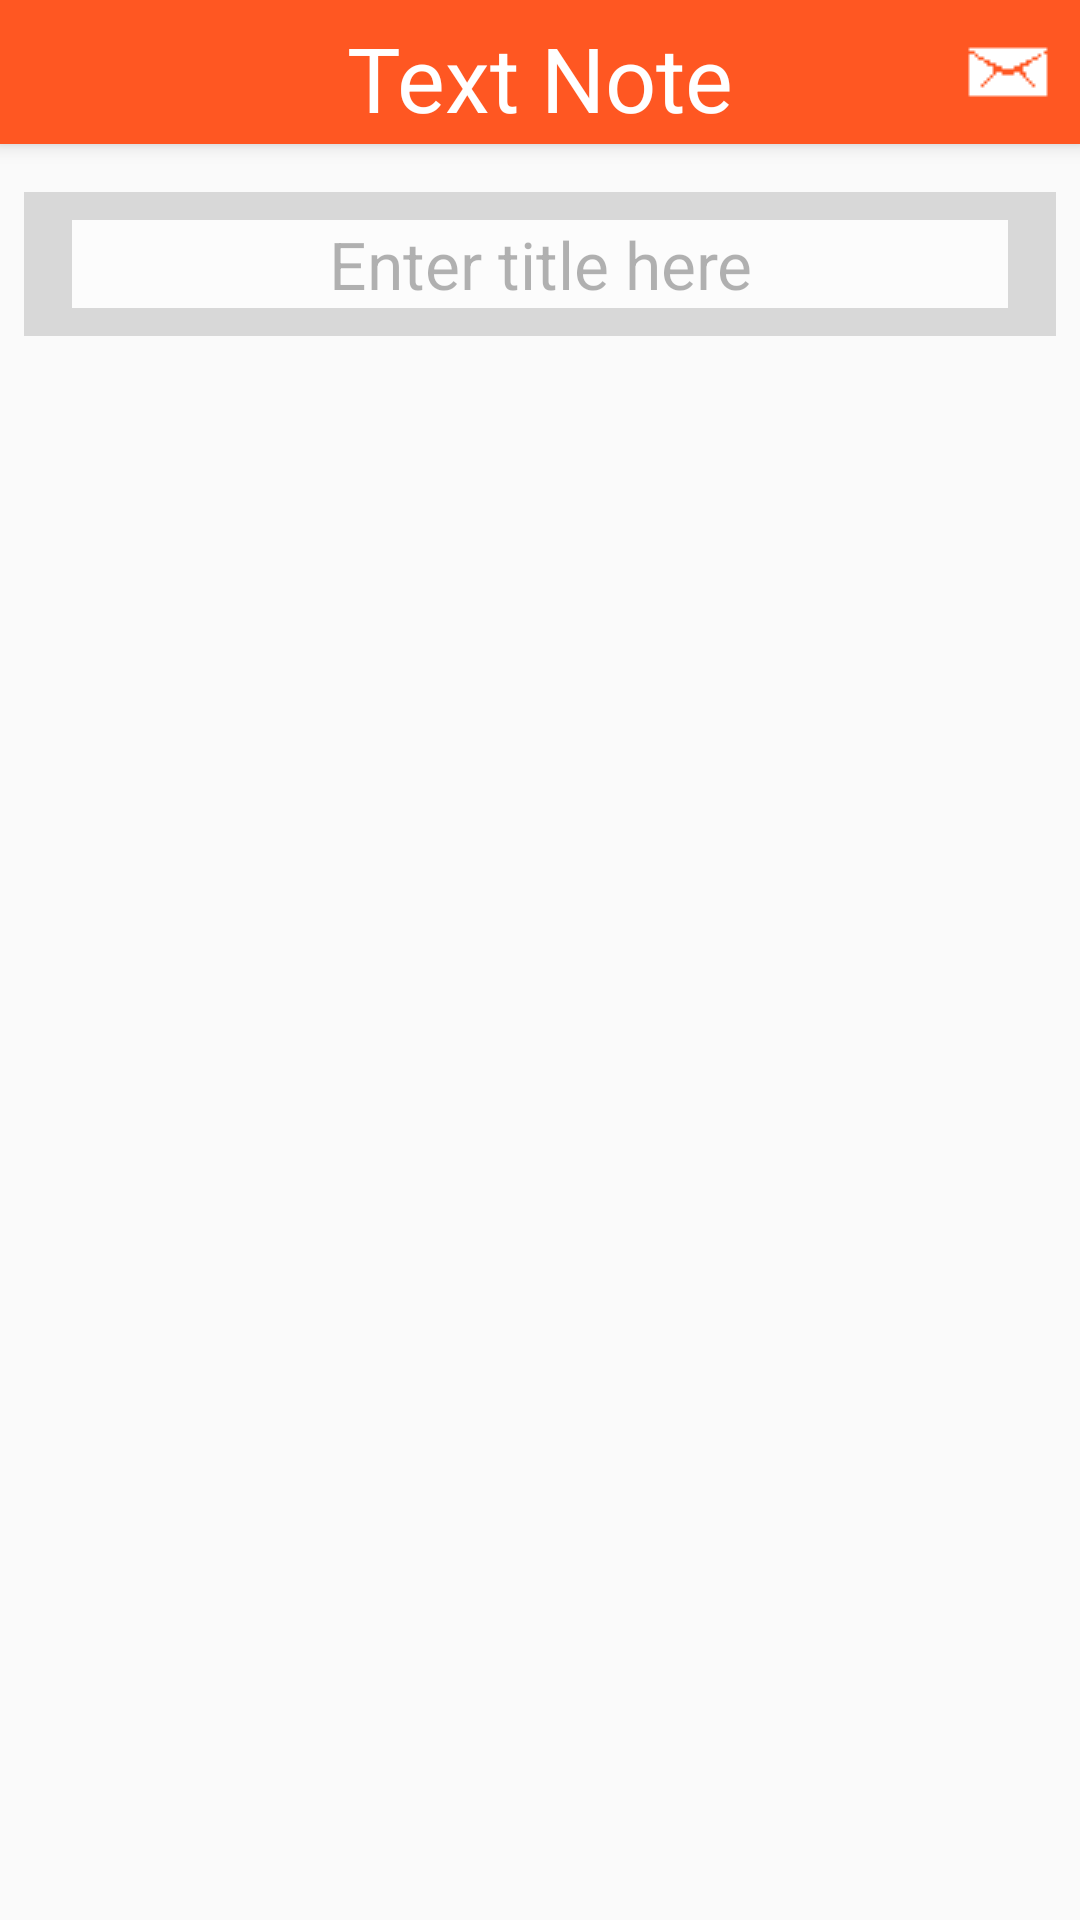

Icon bounding boxes for this 1080 x 1920 phone screenshot, format {"x1": x1, "y1": y1, "x2": x2, "y2": y2}:
sendmail: {"x1": 968, "y1": 47, "x2": 1048, "y2": 97}
